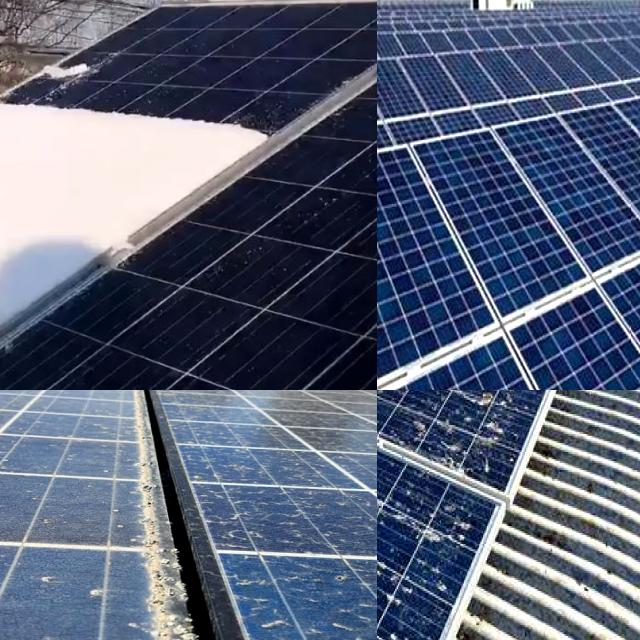bird: (402, 495, 480, 555), (413, 401, 468, 467), (377, 390, 425, 440), (453, 390, 517, 425), (377, 564, 409, 633), (377, 458, 407, 525), (521, 390, 573, 422), (377, 510, 398, 585), (377, 447, 401, 505), (377, 430, 396, 487), (377, 596, 399, 640), (377, 390, 407, 420), (377, 390, 405, 410), (377, 621, 397, 640)
crack: (403, 134, 591, 326), (496, 97, 640, 316), (377, 155, 511, 385), (459, 246, 640, 390), (377, 329, 624, 390), (555, 92, 640, 252), (605, 83, 640, 227)
dust: (199, 419, 377, 533), (0, 539, 147, 640), (229, 540, 377, 640), (0, 431, 124, 528), (0, 438, 40, 531), (0, 390, 148, 410)
panel: (0, 188, 165, 335), (12, 88, 274, 167), (152, 0, 377, 28), (16, 54, 166, 87)
